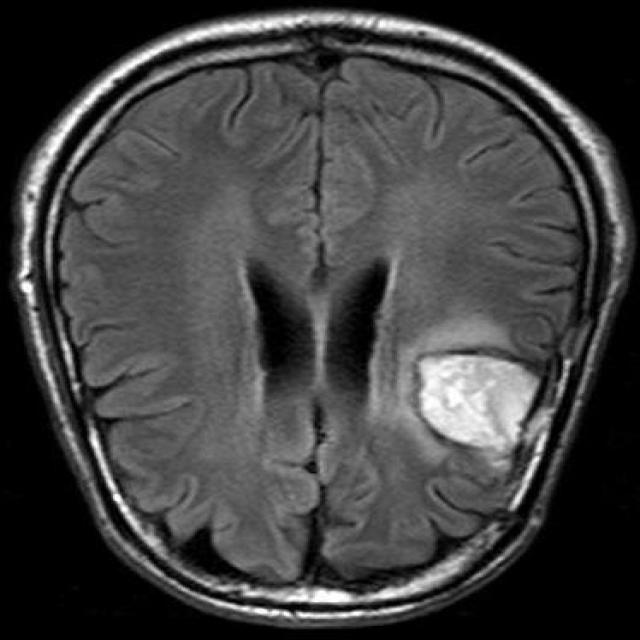Tumor-Cell: (404, 331, 544, 463)
